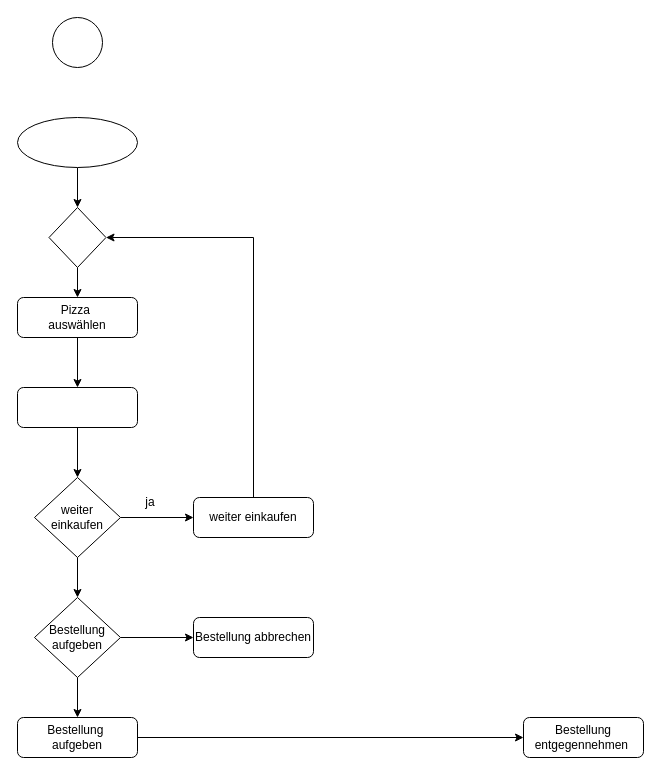
The diagram is 661 pixels wide and 775 high, and some of its shapes have lost their labels. Here are the shapes that lost their labels. From the top down, the centre of each, then its label:
At (77,142): "Kunde anmelden".
At (77,407): "Auswahl in Wahrenkorb legen".
